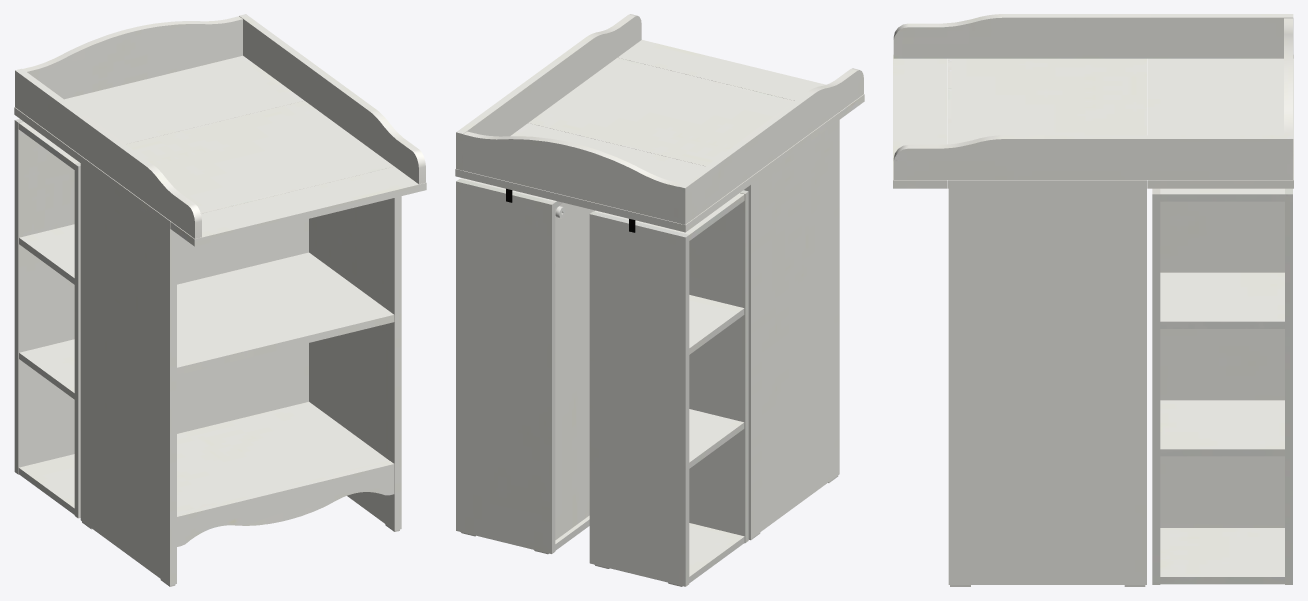
3 views of the same model, side by side, from view 1: azimuth 30°, elevation 25°; view 2: azimuth 150°, elevation 25°; view 3: azimuth 270°, elevation 25° (orthographic). The views are drawn at different scales.
Size of the model in its own units: 0.6002 by 1.03 by 0.8083.
1 material, 1 textured.
